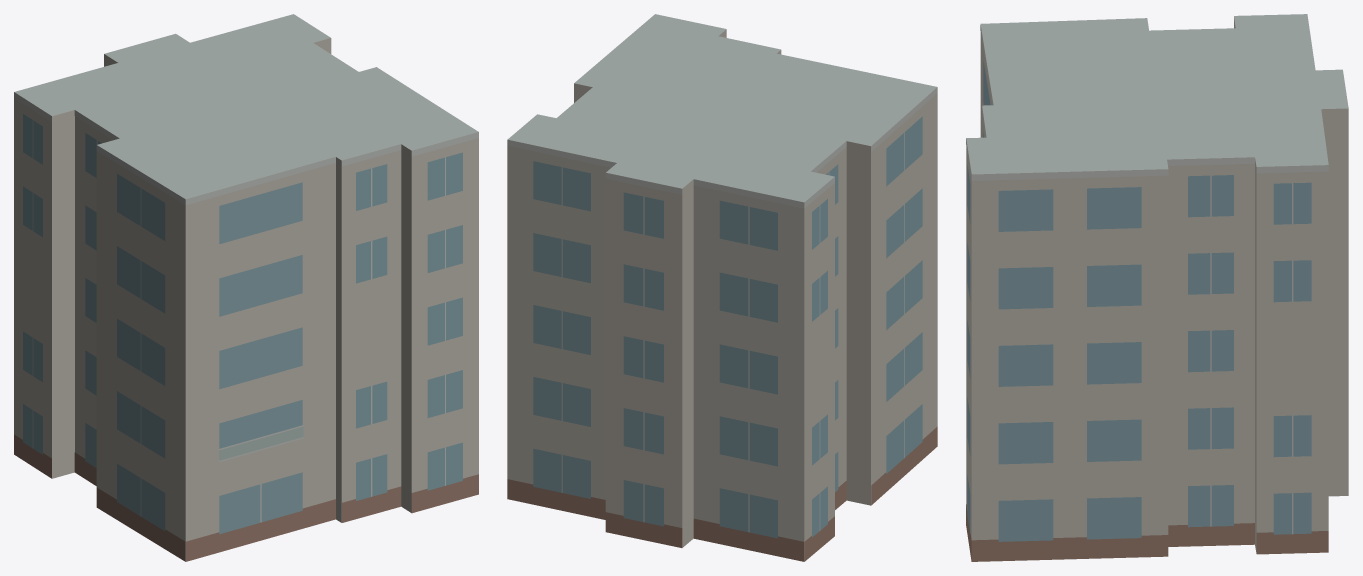
File: survey-upis-32906544.glb
The picture shows the model from 3 angles, left to right: view 1: azimuth 30°, elevation 25°; view 2: azimuth 150°, elevation 25°; view 3: azimuth 270°, elevation 25°; orthographic projection. The views are drawn at different scales.
Visible parts, largest first — view 1: survey-upis-32906544.tmp; view 2: survey-upis-32906544.tmp; view 3: survey-upis-32906544.tmp.
Part boxes in pixels (box(x1,y1,x2,y2)): survey-upis-32906544.tmp: box(14, 14, 478, 561); survey-upis-32906544.tmp: box(507, 14, 937, 561); survey-upis-32906544.tmp: box(966, 14, 1348, 561).
Size of the model in its own units: 13.06 by 14.7 by 13.16.
